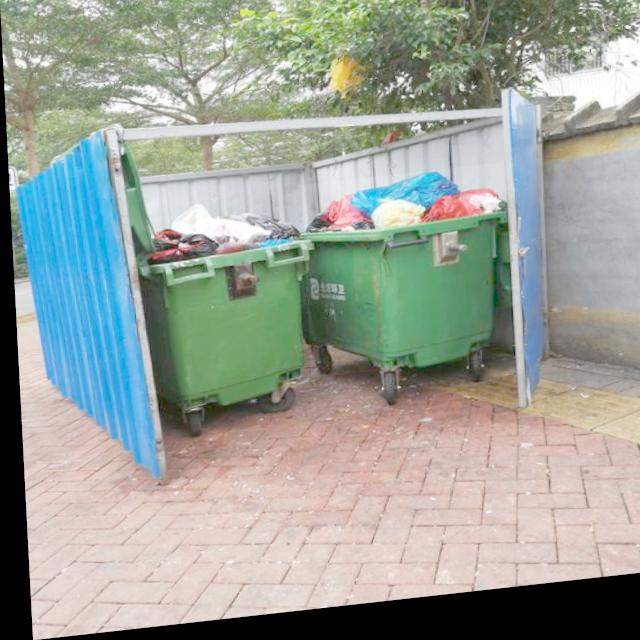overflow: (299, 174, 509, 385), (137, 197, 318, 416)
